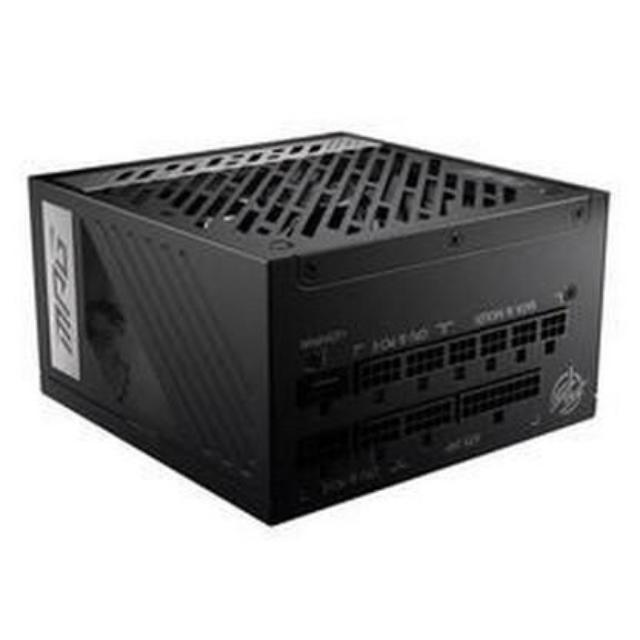PSU: (24, 115, 610, 540)
